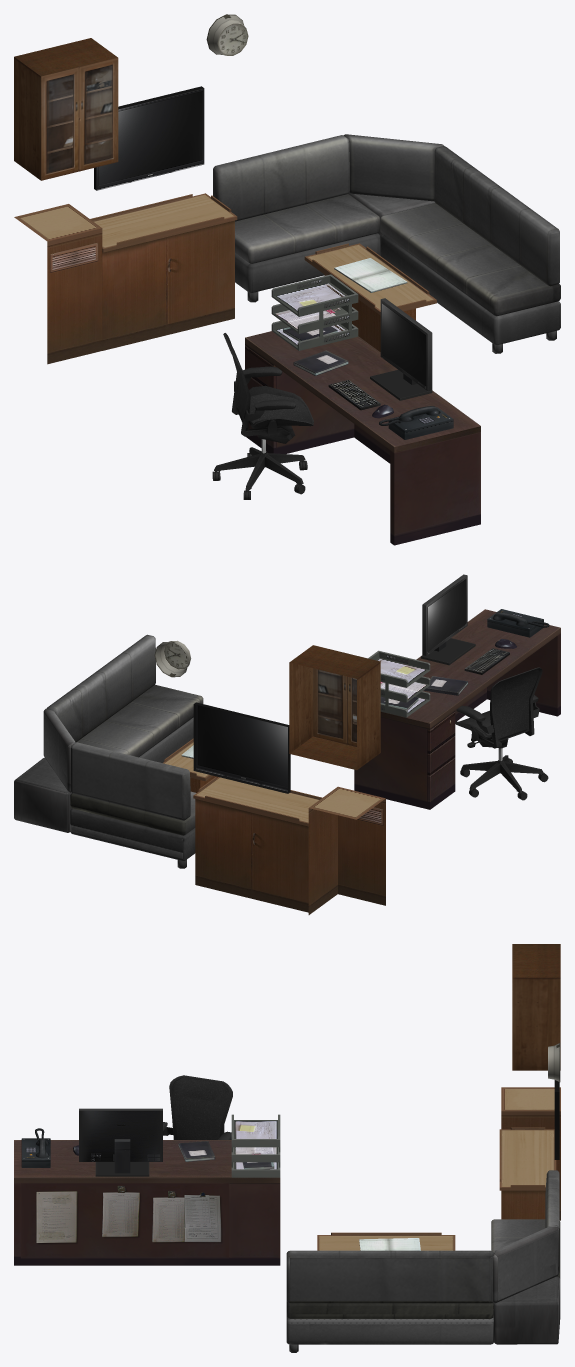
File: ETS_All-001_cabin.FBX
3 views of the same model, one above another, from view 1: azimuth 30°, elevation 25°; view 2: azimuth 150°, elevation 25°; view 3: azimuth 270°, elevation 25° (orthographic). The views are drawn at different scales.
Parts seen in each view (by area): view 1: ETS_All-001_cabin_03, ETS_All-001_cabin_01_2, ETS_All-001_cabin_01_1, ETS_All-001_cabin_02, OfficeChair, Telephone_Black_desk, Book_Open01, Book01; view 2: ETS_All-001_cabin_01_2, ETS_All-001_cabin_03, ETS_All-001_cabin_01_1, ETS_All-001_cabin_02, OfficeChair, Telephone_Black_desk, Book01; view 3: ETS_All-001_cabin_03, ETS_All-001_cabin_01_1, ETS_All-001_cabin_01_2, ETS_All-001_cabin_02, OfficeChair, Telephone_Black_desk, Book_Open01, Book01.
Boxes of the visible parts, x1,y1,x2,y2 form: ETS_All-001_cabin_03: (213,134,560,353); ETS_All-001_cabin_01_2: (14,14,436,364); ETS_All-001_cabin_01_1: (245,331,480,545); ETS_All-001_cabin_02: (94,86,432,418); OfficeChair: (212,333,313,499); Telephone_Black_desk: (379,406,453,439); Book_Open01: (334,258,407,292); Book01: (293,350,348,375); ETS_All-001_cabin_01_2: (154,640,385,914); ETS_All-001_cabin_03: (14,634,203,868); ETS_All-001_cabin_01_1: (354,609,560,809); ETS_All-001_cabin_02: (193,574,516,793); OfficeChair: (455,667,548,800); Telephone_Black_desk: (487,609,549,637); Book01: (424,676,467,695); ETS_All-001_cabin_03: (286,1170,560,1352); ETS_All-001_cabin_01_1: (14,1140,280,1265); ETS_All-001_cabin_01_2: (317,944,560,1250); ETS_All-001_cabin_02: (73,1080,559,1177); OfficeChair: (163,1075,232,1139); Telephone_Black_desk: (21,1128,50,1167); Book_Open01: (359,1238,420,1250); Book01: (178,1141,215,1161).
Size of the model in its own units: 3.09 by 2.12 by 4.16.
